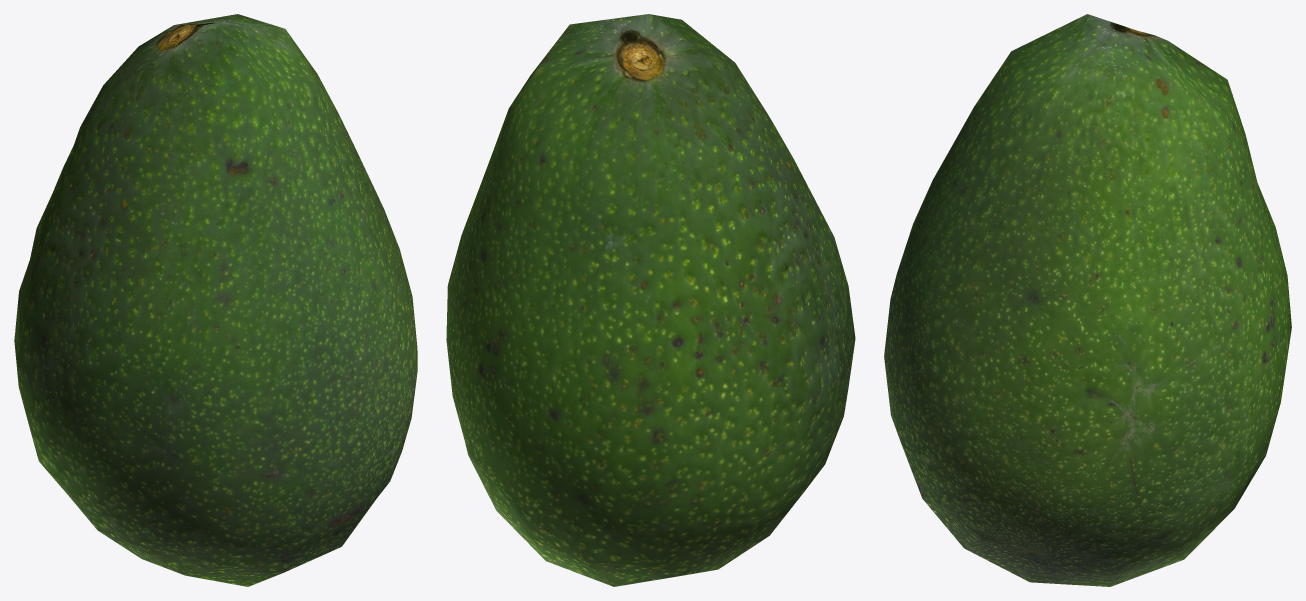
The picture shows the model from 3 angles, left to right: view 1: azimuth 30°, elevation 25°; view 2: azimuth 150°, elevation 25°; view 3: azimuth 270°, elevation 25°; orthographic projection. The views are drawn at different scales.
Parts seen in each view (by area): view 1: Box001; view 2: Box001; view 3: Box001.
Boxes of the visible parts, x1=… form: Box001: x1=14, y1=14, x2=417, y2=586; Box001: x1=446, y1=14, x2=855, y2=586; Box001: x1=884, y1=14, x2=1291, y2=586.
Size of the model in its own units: 10.82 by 16.13 by 10.81.
1 material, 1 textured.
